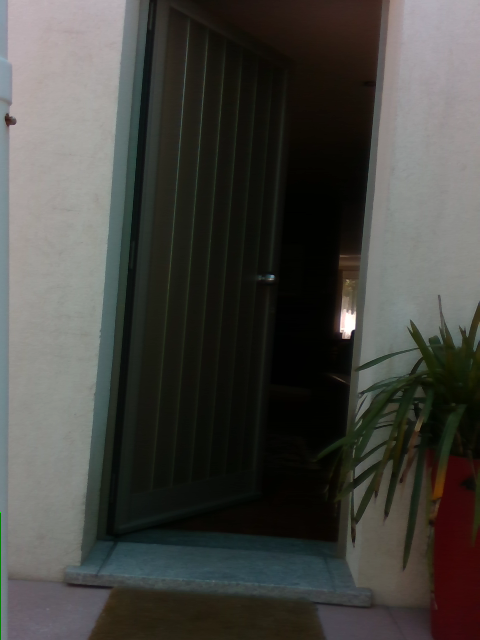semi: (89, 0, 403, 588)
